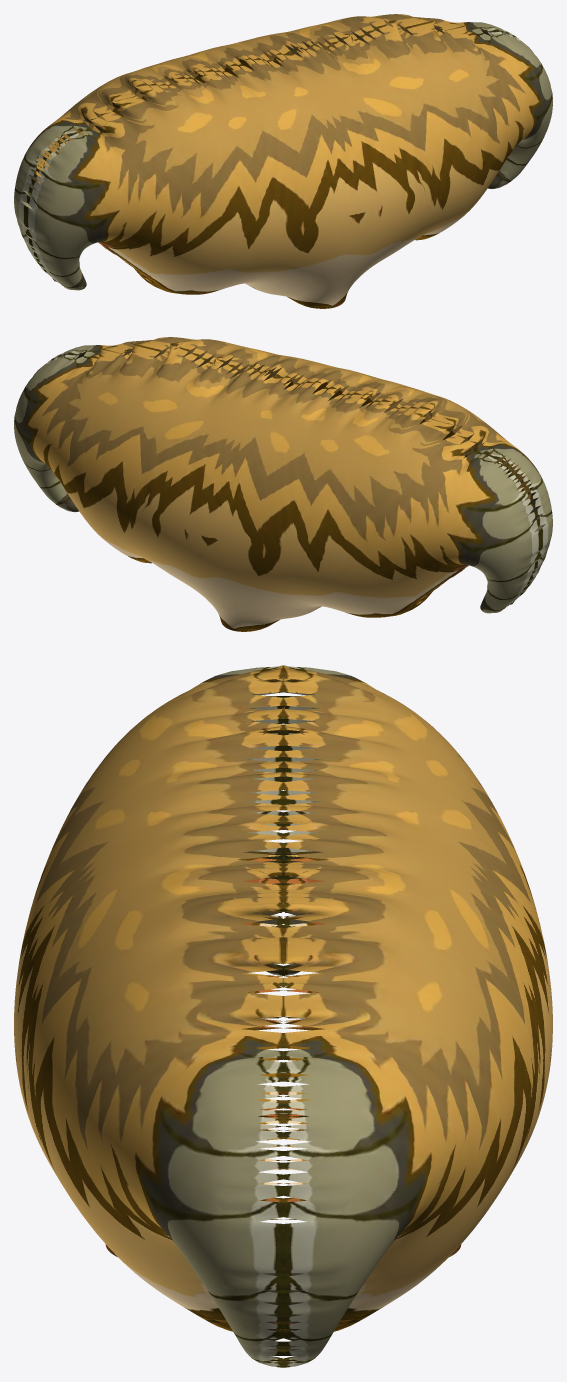
Rendered from suspended_platform.glb.
3 views of the same model, one above another, from view 1: azimuth 30°, elevation 25°; view 2: azimuth 150°, elevation 25°; view 3: azimuth 270°, elevation 25° (orthographic). The views are drawn at different scales.
Visible parts, largest first — view 1: suspended_platform; view 2: suspended_platform; view 3: suspended_platform.
Boxes of the visible parts, box(x1,y1,x2,y2) form: suspended_platform: box(14, 14, 552, 308); suspended_platform: box(14, 337, 552, 631); suspended_platform: box(14, 665, 552, 1367).
Bounding box in the file's own units: 0.9889 × 0.4176 × 0.4646.
1 material, 1 textured.
